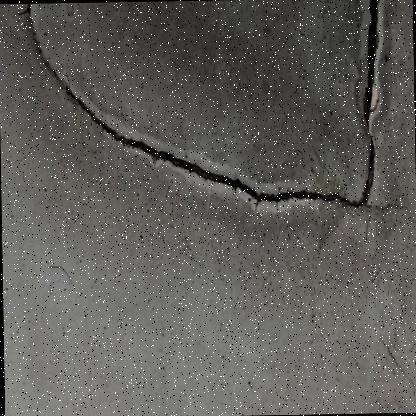Crack: (0, 0, 415, 240)
